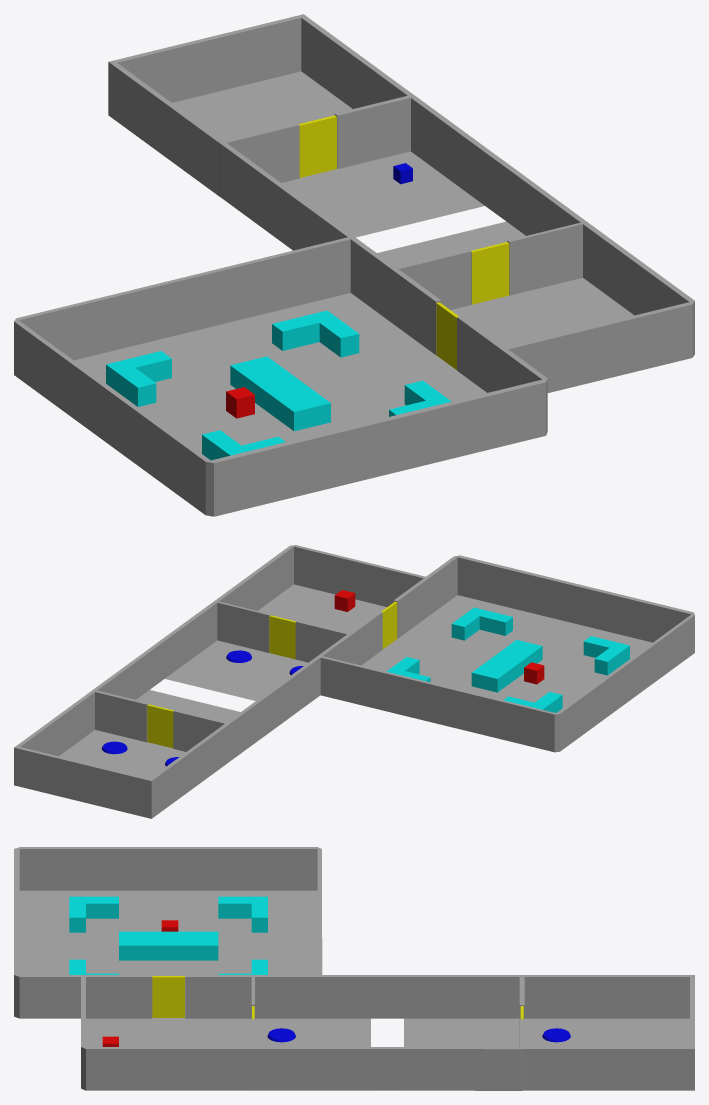
Rendered from SM_demo_mapp_complete.fbx.
3 renders of one model, top to bottom at view 1: azimuth 30°, elevation 25°; view 2: azimuth 150°, elevation 25°; view 3: azimuth 270°, elevation 25°, orthographic. The views are drawn at different scales.
Visible parts, largest first — view 1: SM_DemoRoom4, SM_DemoRooms123, SM_Door2, SM_Door1, SM_Door3, SM_Block8, SM_Block15, SM_Block21, Enemy1, SM_Block10; view 2: SM_DemoRoom4, SM_DemoRooms123, SM_Door2, SM_Door1, SM_Door3; view 3: SM_DemoRoom4, SM_DemoRooms123, SM_Door3, SM_Block29, SM_Block31, SM_Block14, SM_Block15, SM_Block17, SM_Block20, SM_Block28, SM_Block30, SM_Block32 (+3 smaller).
Part boxes in pixels (x1,y1,x2,y2): SM_DemoRoom4: [108, 14, 694, 392]; SM_DemoRooms123: [14, 237, 547, 516]; SM_Door2: [471, 242, 509, 304]; SM_Door1: [299, 115, 336, 177]; SM_Door3: [436, 302, 458, 369]; SM_Block8: [330, 326, 359, 357]; SM_Block15: [127, 375, 156, 406]; SM_Block21: [283, 400, 312, 431]; Enemy1: [226, 387, 254, 418]; SM_Block10: [272, 319, 300, 350]; SM_DemoRoom4: [14, 545, 427, 818]; SM_DemoRooms123: [320, 555, 694, 752]; SM_Door2: [269, 615, 295, 659]; SM_Door1: [147, 704, 173, 748]; SM_Door3: [381, 601, 397, 649]; SM_DemoRoom4: [81, 975, 694, 1090]; SM_DemoRooms123: [14, 847, 322, 1018]; SM_Door3: [152, 976, 184, 1017]; SM_Block29: [168, 938, 185, 960]; SM_Block31: [135, 938, 152, 960]; SM_Block14: [235, 896, 251, 918]; SM_Block15: [218, 896, 234, 918]; SM_Block17: [86, 896, 102, 918]; SM_Block20: [69, 910, 85, 932]; SM_Block28: [185, 938, 201, 960]; SM_Block30: [152, 938, 168, 960]; SM_Block32: [119, 938, 135, 960].
Size of the model in its own units: 2887 by 278 by 4112.
